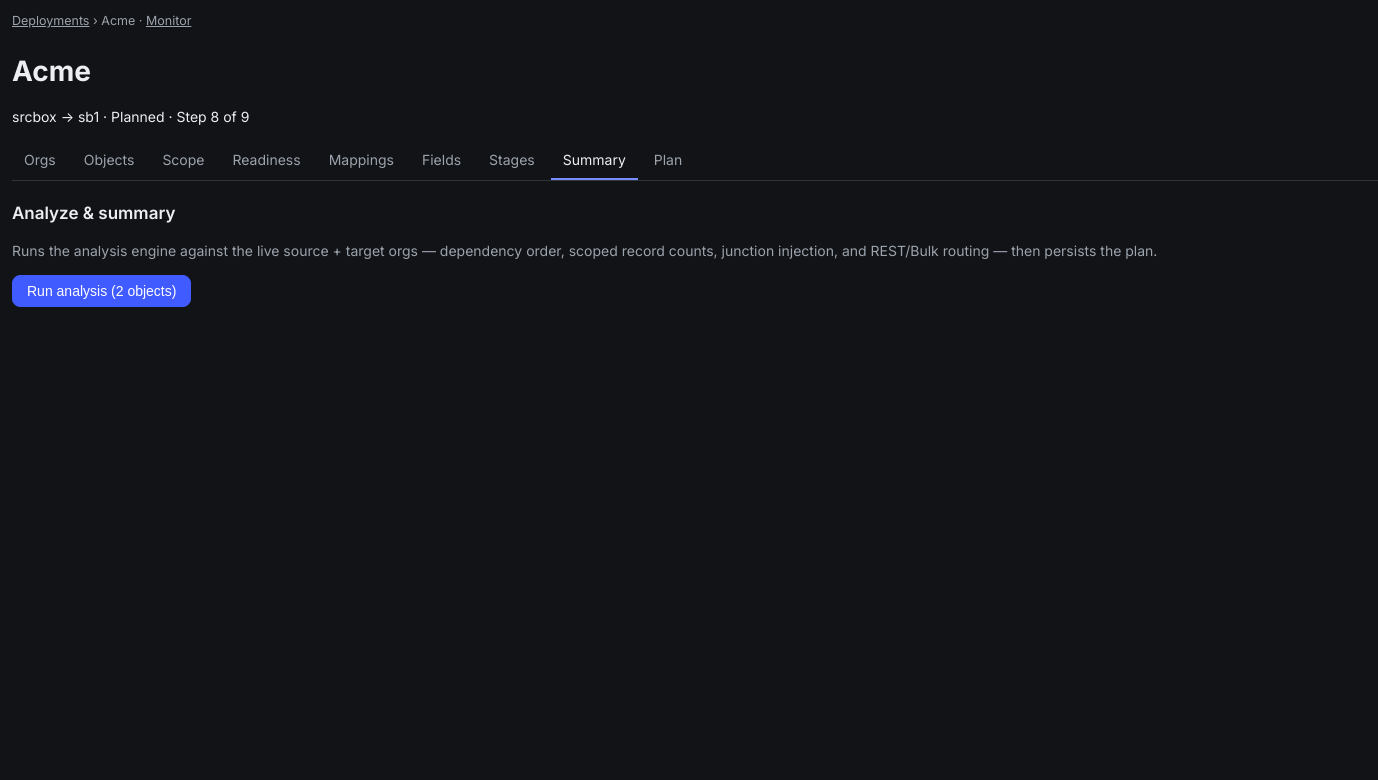
Test: StepSummary (5B.7 — M1 exit) › runs analysis, then renders the plan when the job completes
Click the button "Run analysis (2 objects)".
click(102, 291)  # box [12,275,191,307]
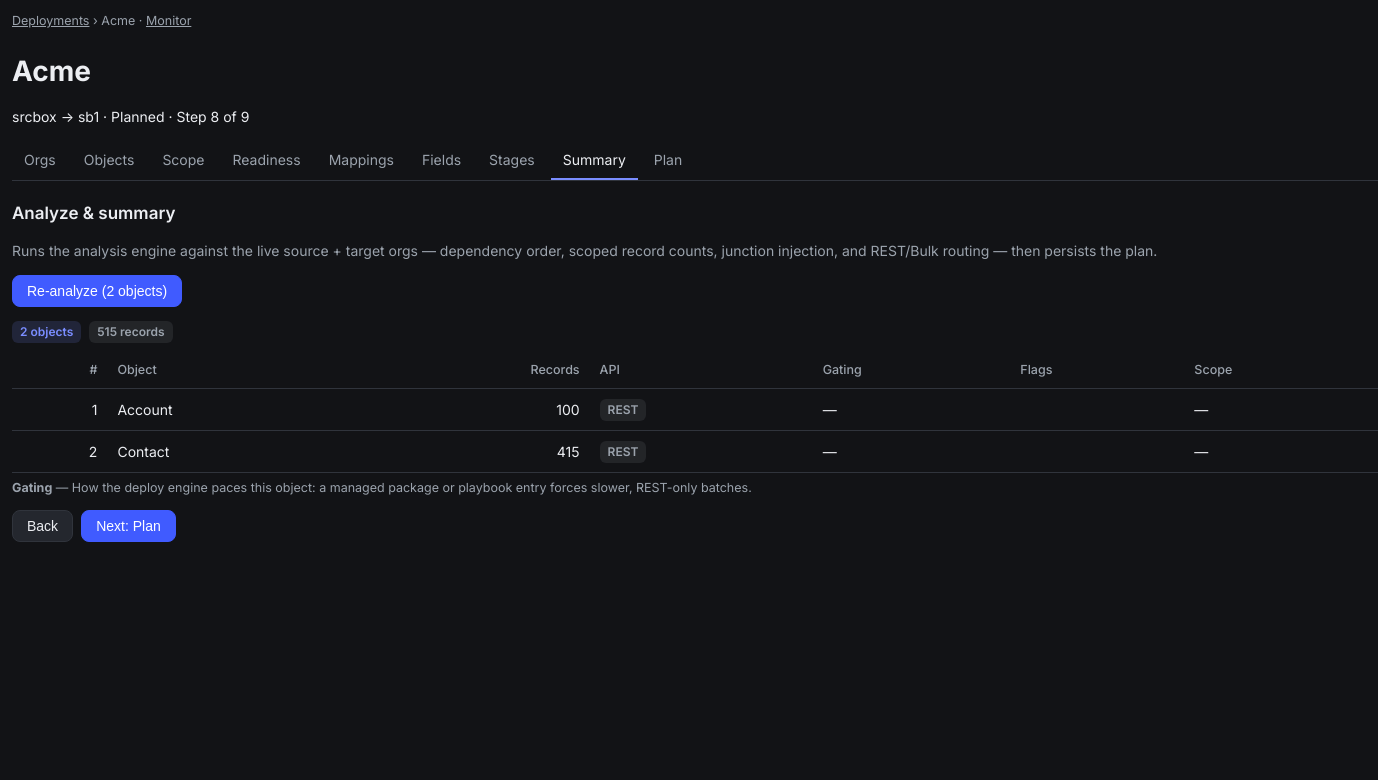
Expected: the text "2 objects" is shown, [12,321,81,343]
Expected: the text "Account" is shown, [107,388,359,430]
